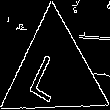L_NE: (31, 42, 77, 102)
